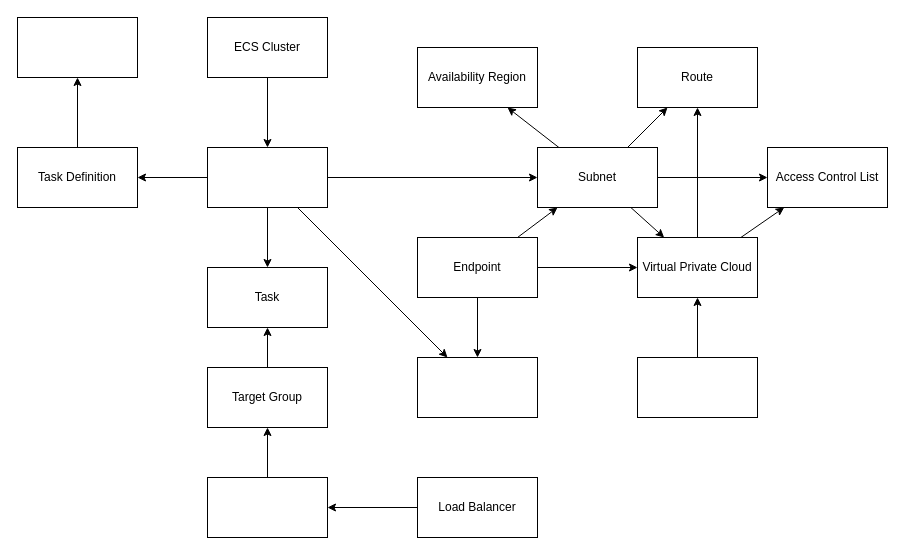
Image size: 905x555. Some labels were removed from this diagram. Each missing label, with the centre of its shape:
"Docker Image" goes at pixel 77 47.
"Internet Gateway" goes at pixel 697 387.
"Listener" goes at pixel 267 507.
"SecurityGroup" goes at pixel 477 387.
"Service" goes at pixel 267 177.
